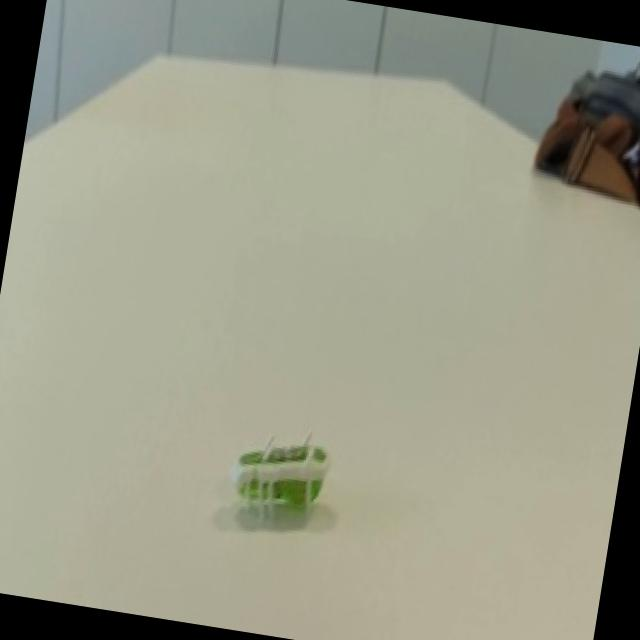4_NanoBug_Blanco: (192, 395, 350, 553)
